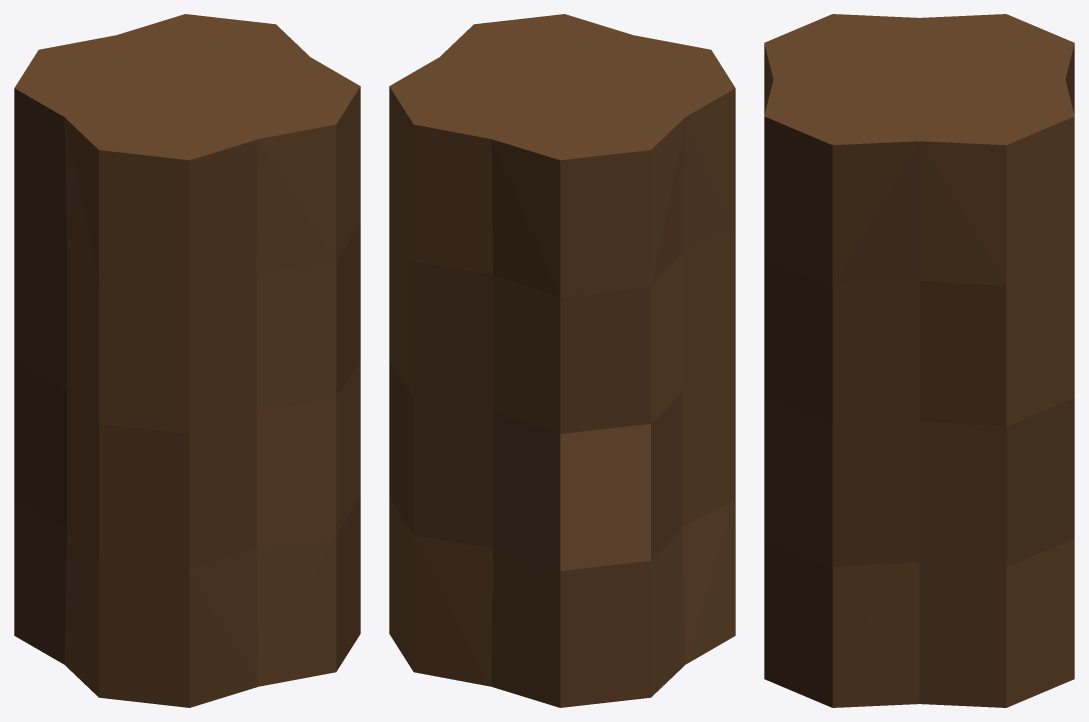
Rendered from Section_3.glb.
The picture shows the model from 3 angles, left to right: view 1: azimuth 30°, elevation 25°; view 2: azimuth 150°, elevation 25°; view 3: azimuth 270°, elevation 25°; orthographic projection. The views are drawn at different scales.
Visible parts, largest first — view 1: Section; view 2: Section; view 3: Section.
Part boxes in pixels (box(x1,y1,x2,y2)): Section: box(14, 14, 360, 707); Section: box(389, 14, 735, 707); Section: box(764, 14, 1074, 707).
Size of the model in its own units: 2 by 4 by 2.
